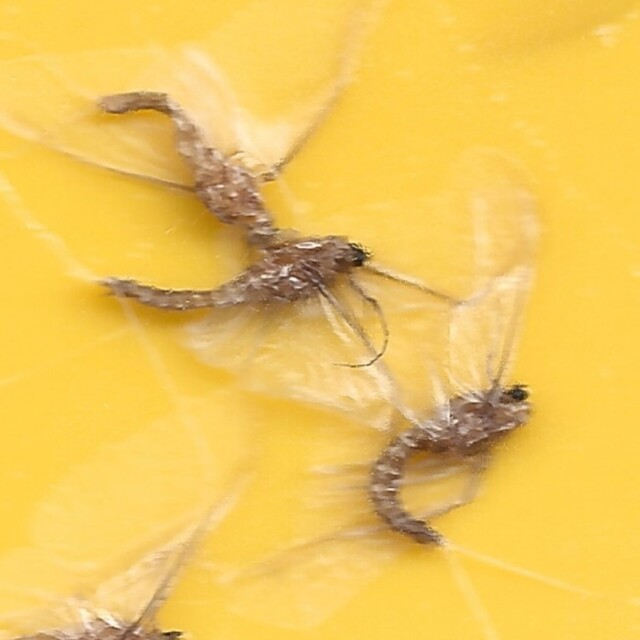Ephemeroptera: (359, 377, 543, 556), (97, 84, 284, 251), (103, 228, 373, 310)
